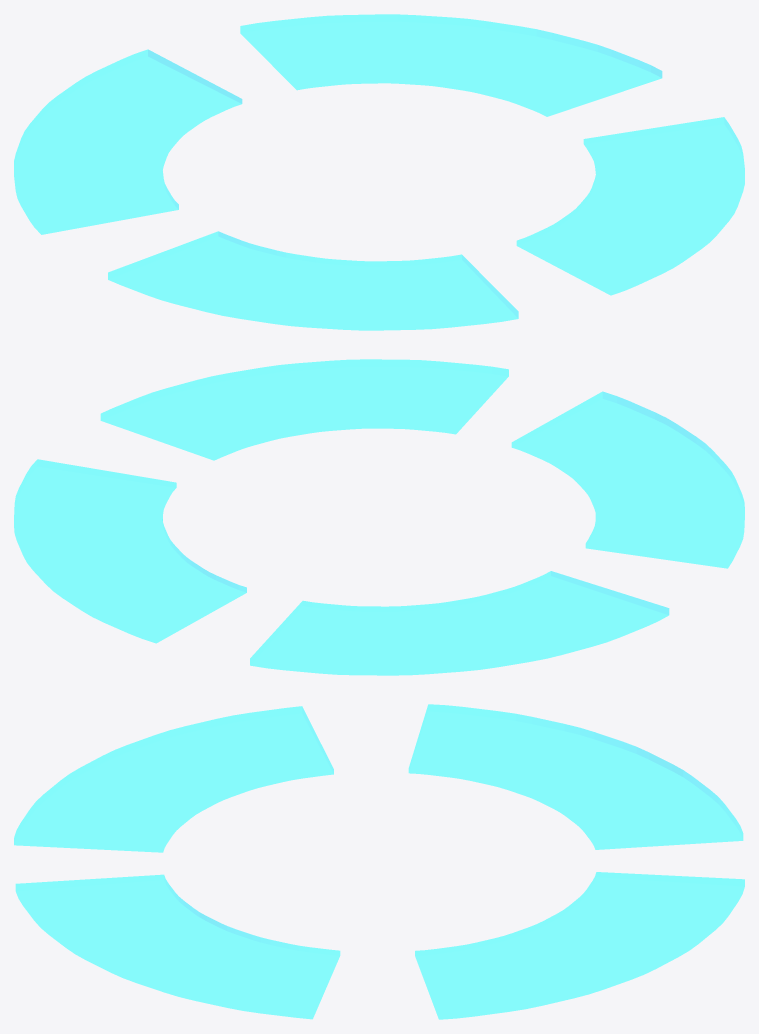
The model's file is spincircle.gltf.
3 views of the same model, one above another, from view 1: azimuth 30°, elevation 25°; view 2: azimuth 150°, elevation 25°; view 3: azimuth 270°, elevation 25° (orthographic).
Visible parts, largest first — view 1: Circle; view 2: Circle; view 3: Circle.
Part boxes in pixels (x1,y1,x2,y2): Circle: [14, 14, 744, 330]; Circle: [14, 359, 744, 675]; Circle: [14, 704, 744, 1019].
Size of the model in its own units: 8.28 by 0.092 by 8.3.
